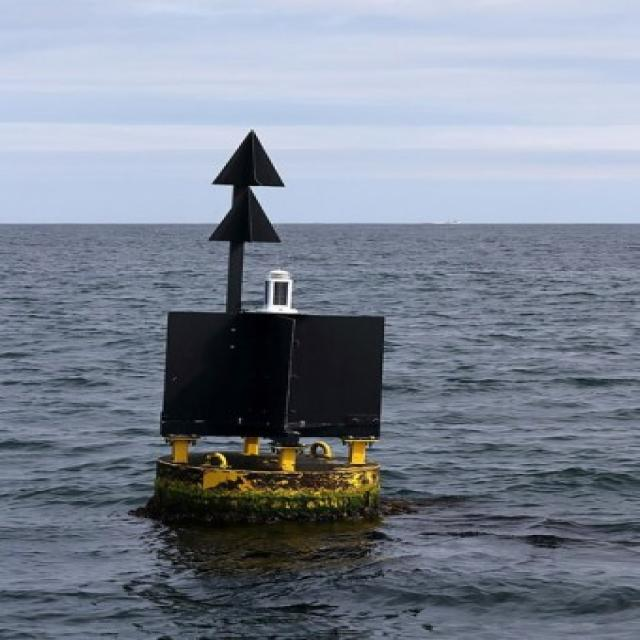marque: (120, 102, 447, 545)
